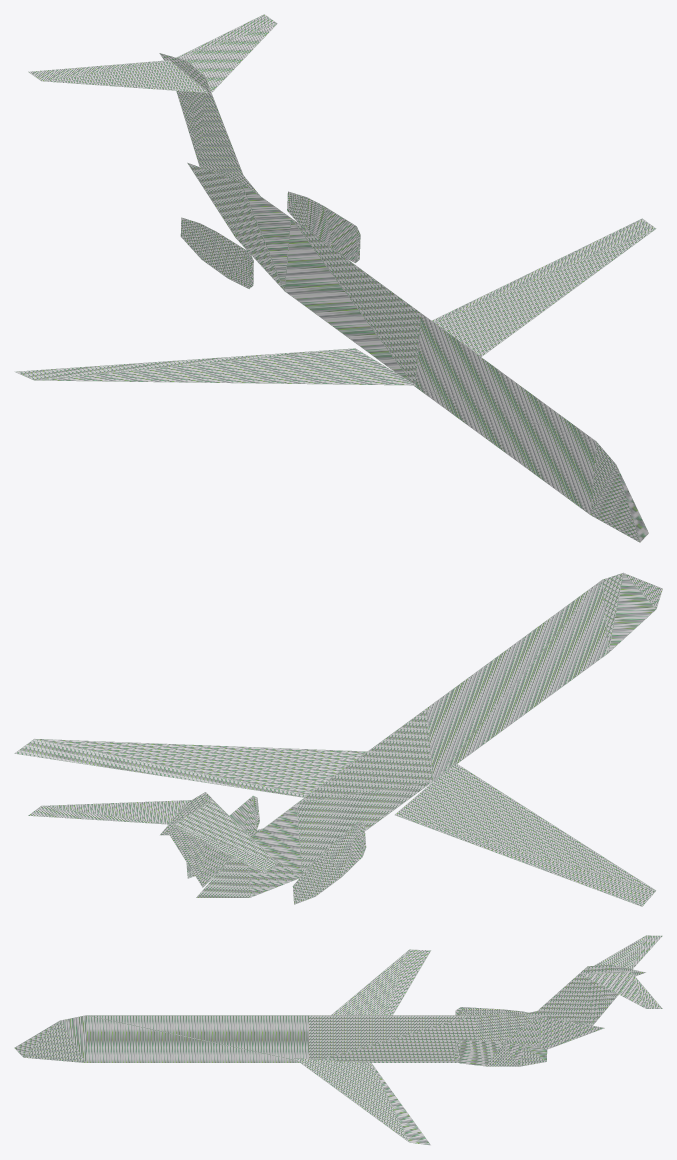
File: AIA_MD8x_Cone_MSFS_LOD1.gltf
3 renders of one model, top to bottom at view 1: azimuth 30°, elevation 25°; view 2: azimuth 150°, elevation 25°; view 3: azimuth 270°, elevation 25°, orthographic. The views are drawn at different scales.
Parts seen in each view (by area): view 1: node1; view 2: node1; view 3: node1.
Boxes of the visible parts, bbox=[...] form: node1: bbox=[14, 14, 656, 542]; node1: bbox=[14, 572, 662, 906]; node1: bbox=[14, 935, 662, 1145].
Bounding box in the file's own units: 32.7 × 7.48 × 45.96.
